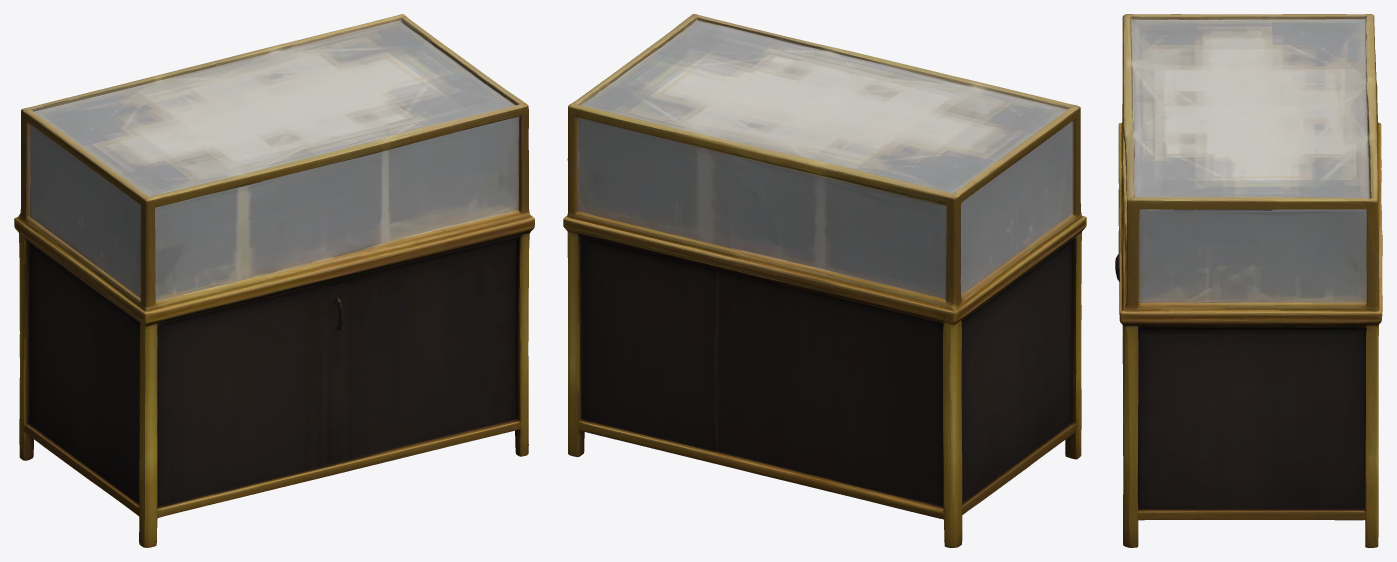
The picture shows the model from 3 angles, left to right: view 1: azimuth 30°, elevation 25°; view 2: azimuth 150°, elevation 25°; view 3: azimuth 270°, elevation 25°; orthographic projection.
Visible parts, largest first — view 1: geometry_0; view 2: geometry_0; view 3: geometry_0.
Part boxes in pixels (x1=…): geometry_0: x1=14, y1=14, x2=534, y2=547; geometry_0: x1=563, y1=14, x2=1086, y2=547; geometry_0: x1=1115, y1=14, x2=1382, y2=547.
Bounding box in the file's own units: 0.9966 × 0.8488 × 0.5906.
Materials: 1 (1 with a texture image).
